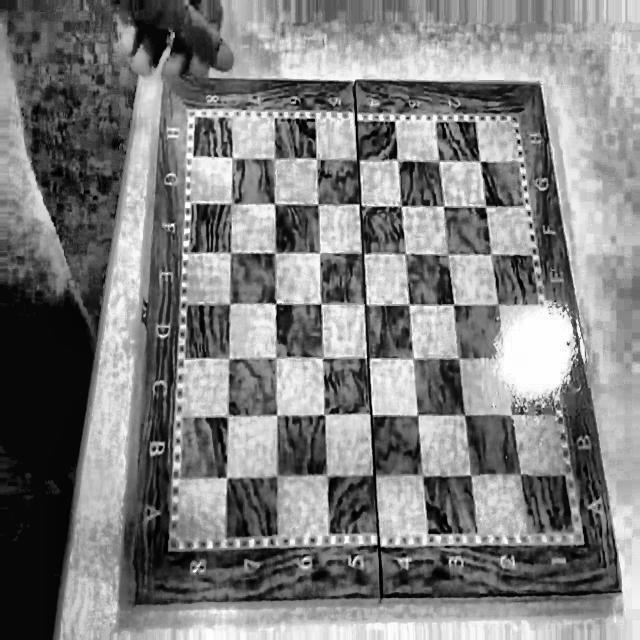chessboard: (172, 111, 582, 544)
p1: (575, 530, 591, 552)
p2: (162, 532, 179, 556)
p3: (186, 101, 200, 121)
p4: (508, 104, 522, 128)
